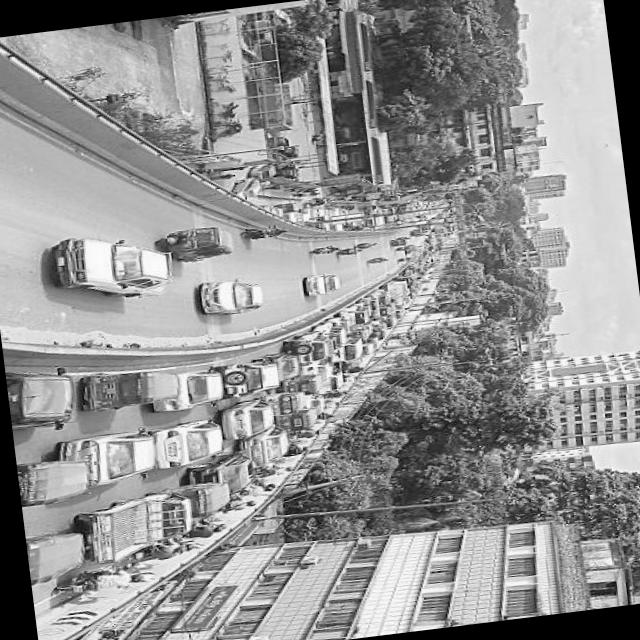car: (64, 428, 164, 488), (10, 368, 85, 435), (142, 366, 232, 414), (150, 418, 228, 470), (190, 452, 256, 502), (212, 398, 278, 442), (240, 424, 296, 471), (292, 331, 339, 366), (301, 273, 351, 298), (341, 306, 371, 327), (306, 361, 334, 382)
motorcycle: (82, 365, 186, 414), (21, 457, 93, 505), (160, 225, 240, 268), (32, 532, 94, 587), (172, 478, 238, 521), (242, 222, 298, 245), (281, 408, 318, 436), (274, 390, 310, 416), (290, 374, 324, 397), (252, 166, 280, 183), (340, 247, 364, 259), (279, 202, 303, 214), (316, 246, 344, 256), (356, 241, 384, 251), (367, 257, 392, 266), (276, 138, 295, 149), (392, 238, 412, 248), (284, 148, 302, 159), (403, 258, 413, 262)
truck: (49, 226, 185, 311), (71, 491, 200, 570), (202, 276, 274, 323), (220, 356, 286, 399), (238, 177, 266, 205), (336, 338, 364, 363)
